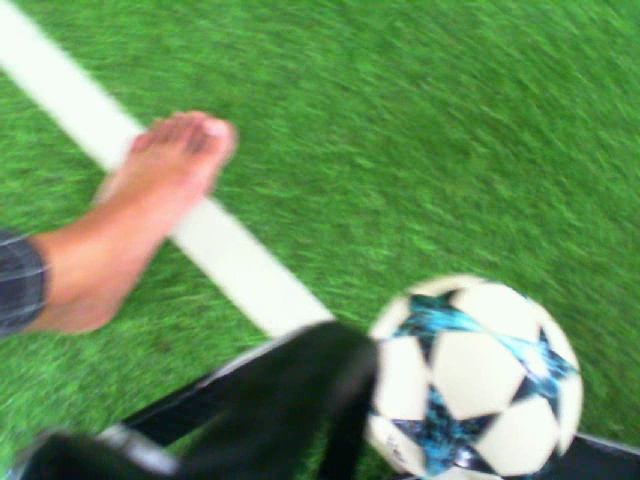ball: (355, 270, 588, 480)
